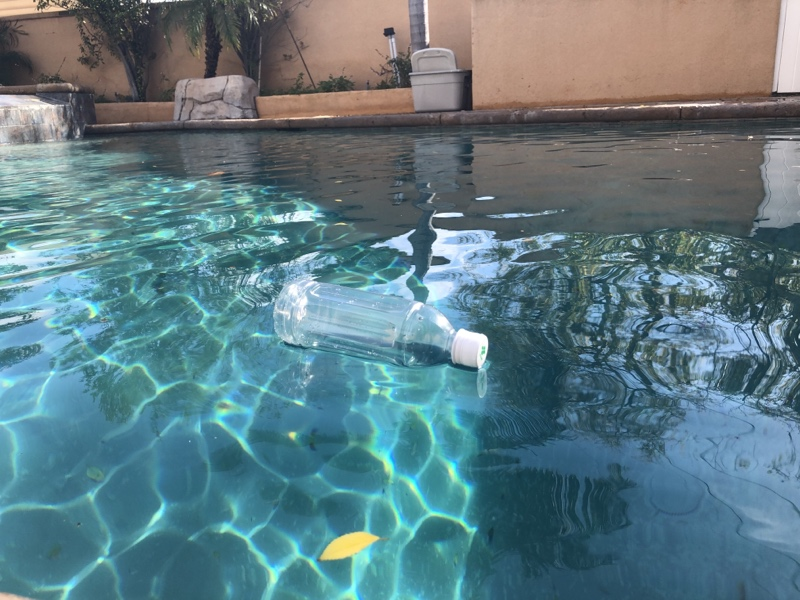Plastic Bottle: (272, 271, 489, 377)
